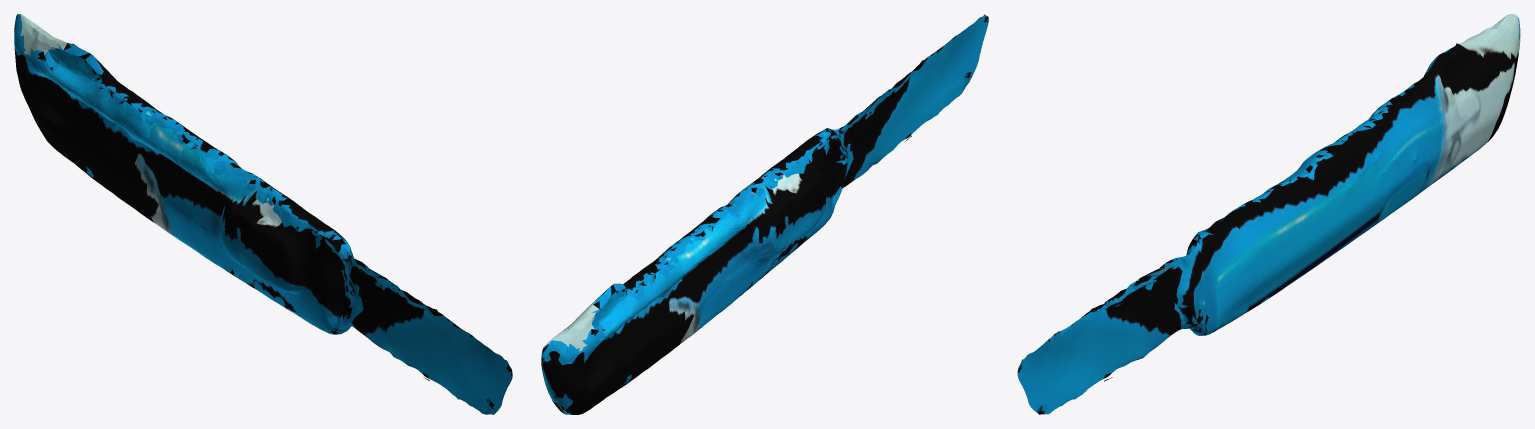
Rendered from scan_align.obj.
The picture shows the model from 3 angles, left to right: view 1: azimuth 30°, elevation 25°; view 2: azimuth 150°, elevation 25°; view 3: azimuth 330°, elevation 25°; orthographic projection. The views are drawn at different scales.
Parts seen in each view (by area): view 1: all; view 2: all; view 3: all.
Boxes of the visible parts, x1,y1,x2,y2 form: all: (14, 14, 512, 414); all: (541, 14, 988, 414); all: (1017, 14, 1520, 414).
Bounding box in the file's own units: 0.0127 × 0.0298 × 0.2245.
